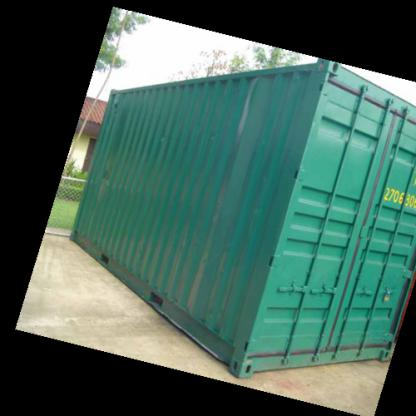Damage: (202, 246, 232, 330), (158, 232, 188, 316), (226, 75, 262, 142), (99, 150, 120, 198), (152, 119, 170, 165), (200, 124, 218, 152)
